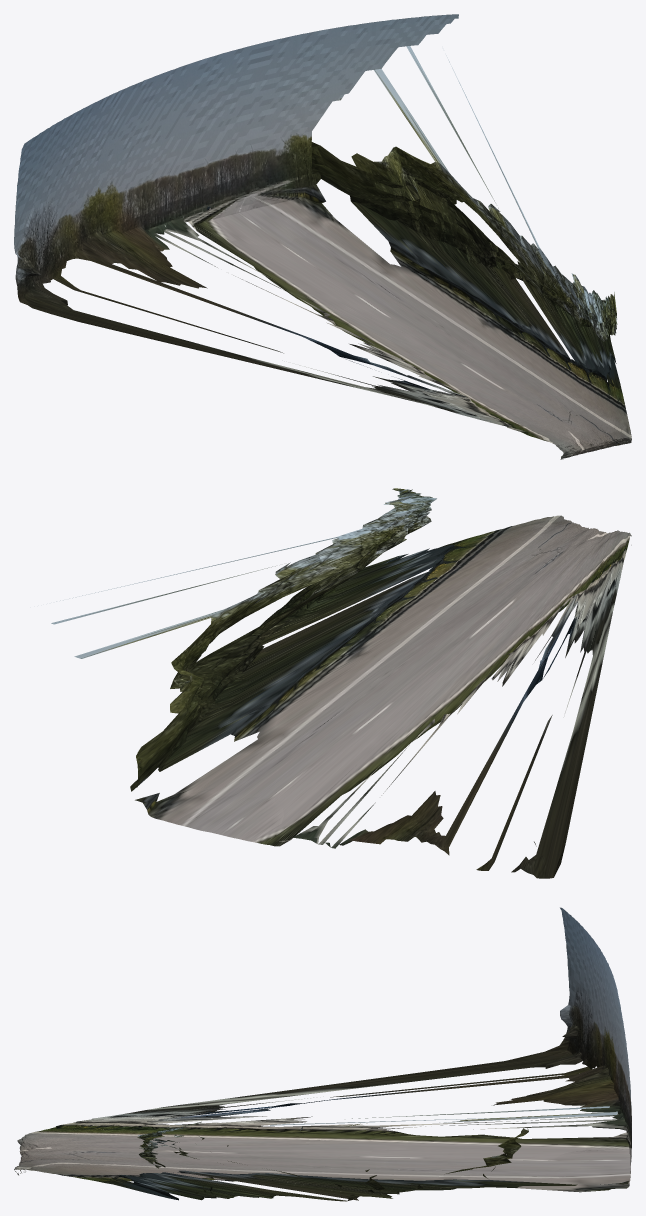
3 views of the same model, one above another, from view 1: azimuth 30°, elevation 25°; view 2: azimuth 150°, elevation 25°; view 3: azimuth 270°, elevation 25° (orthographic). The views are drawn at different scales.
Visible parts, largest first — view 1: defaultobject; view 2: defaultobject; view 3: defaultobject.
Boxes of the visible parts, x1,y1,x2,y2 form: defaultobject: (14, 14, 631, 459); defaultobject: (51, 488, 631, 878); defaultobject: (14, 907, 631, 1201).
Size of the model in its own units: 34.14 by 12.49 by 44.5.
1 material, 1 textured.
